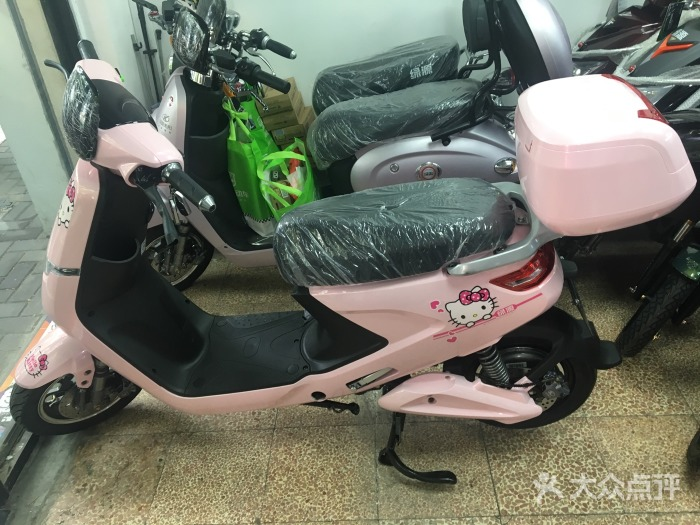电动车: (6, 29, 700, 492)
